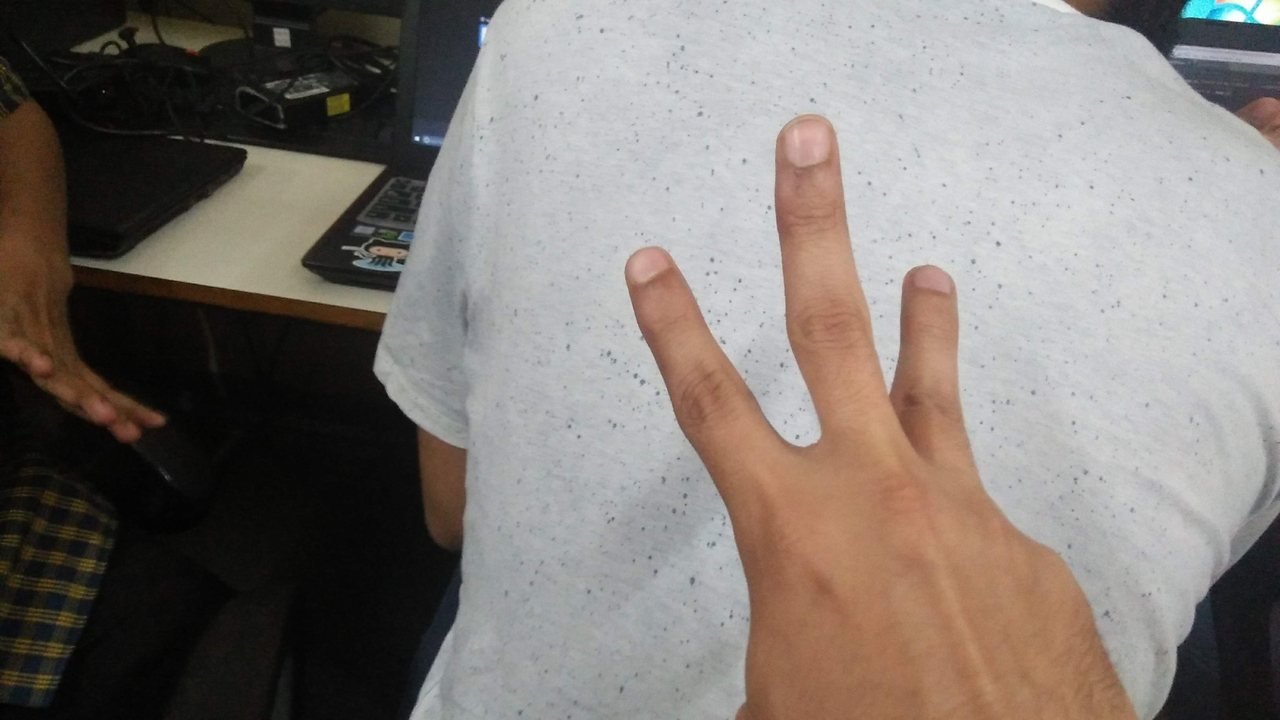fingertip: (618, 238, 694, 300), (776, 116, 850, 174), (902, 258, 970, 314)
